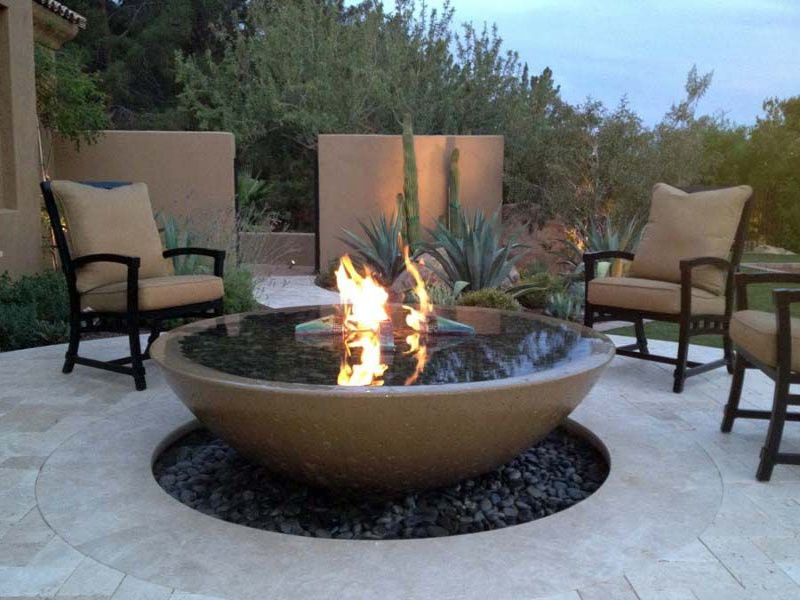fire: (332, 262, 393, 333), (401, 248, 435, 331), (340, 337, 384, 384), (409, 337, 428, 363)
